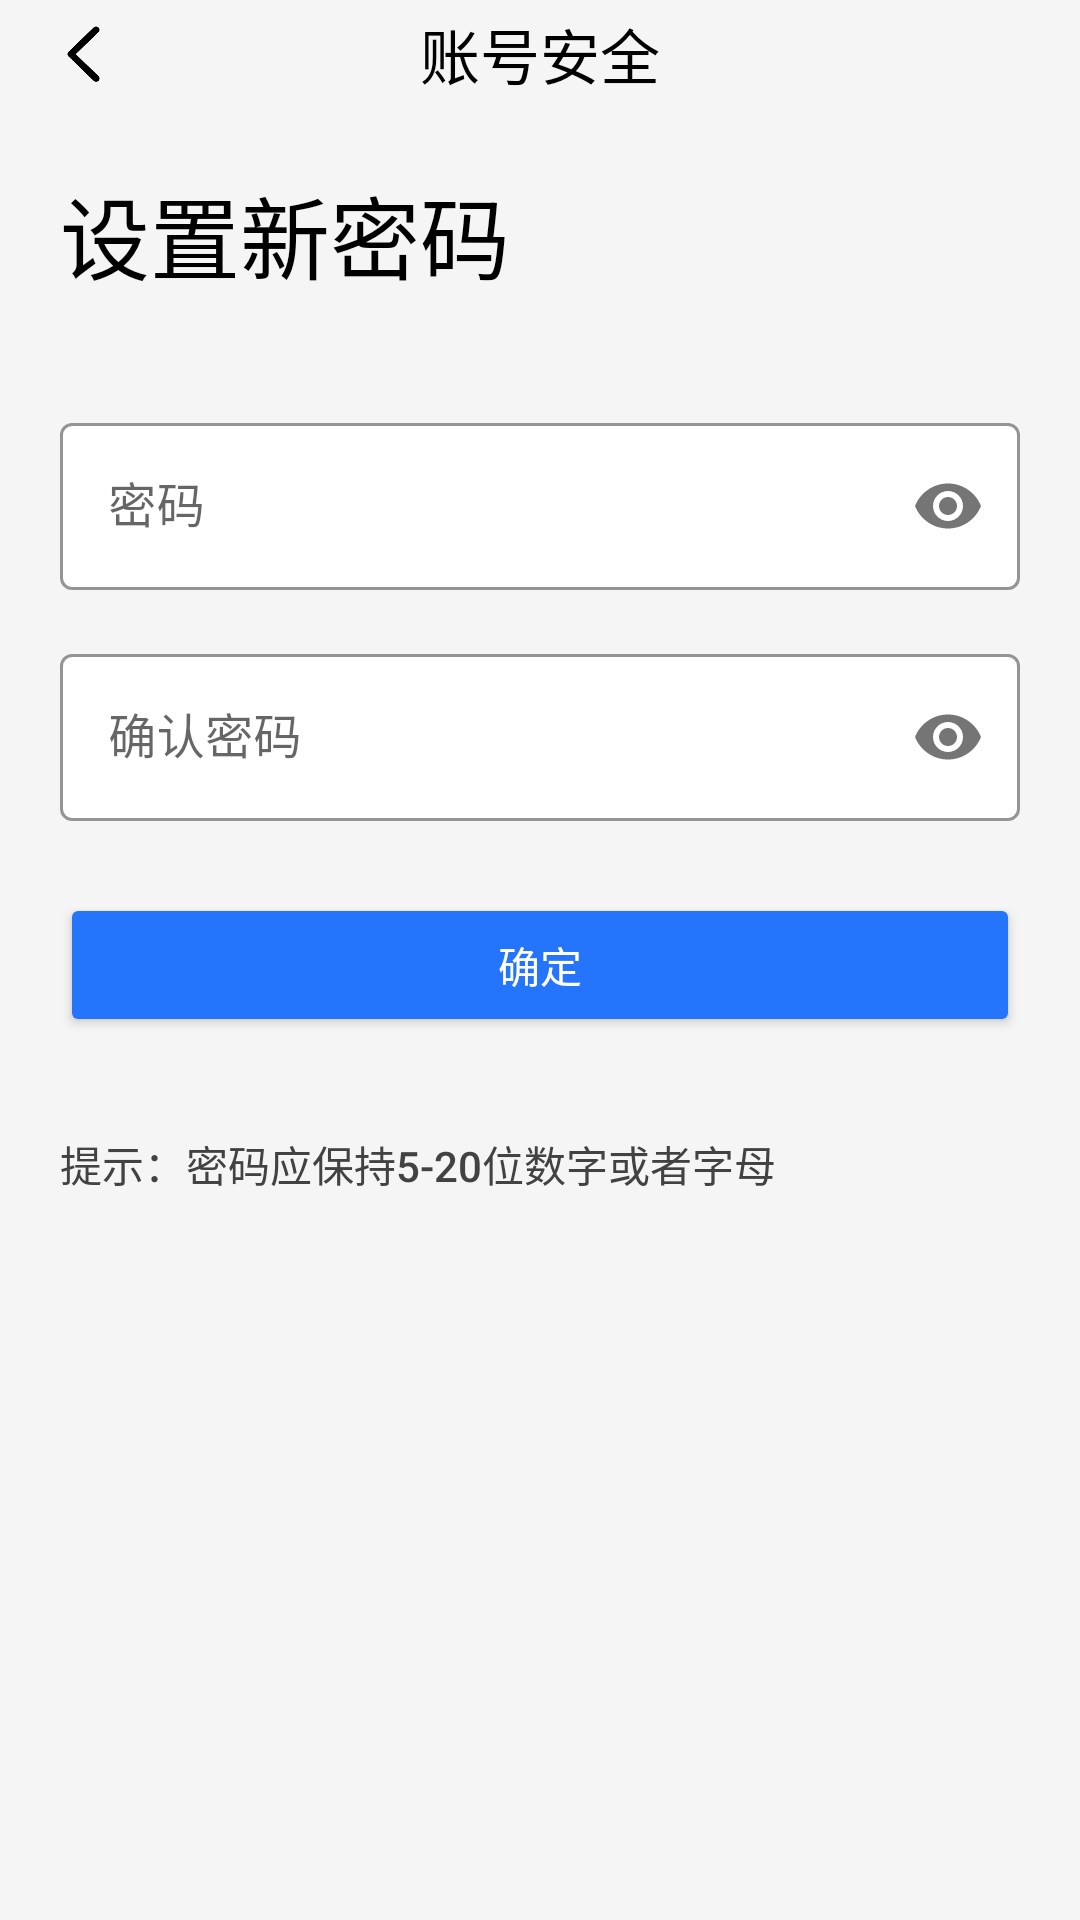

Point at icon controls on the screen. Image size 1080px x 1920px, points as (x,y).
back: (83,54)
